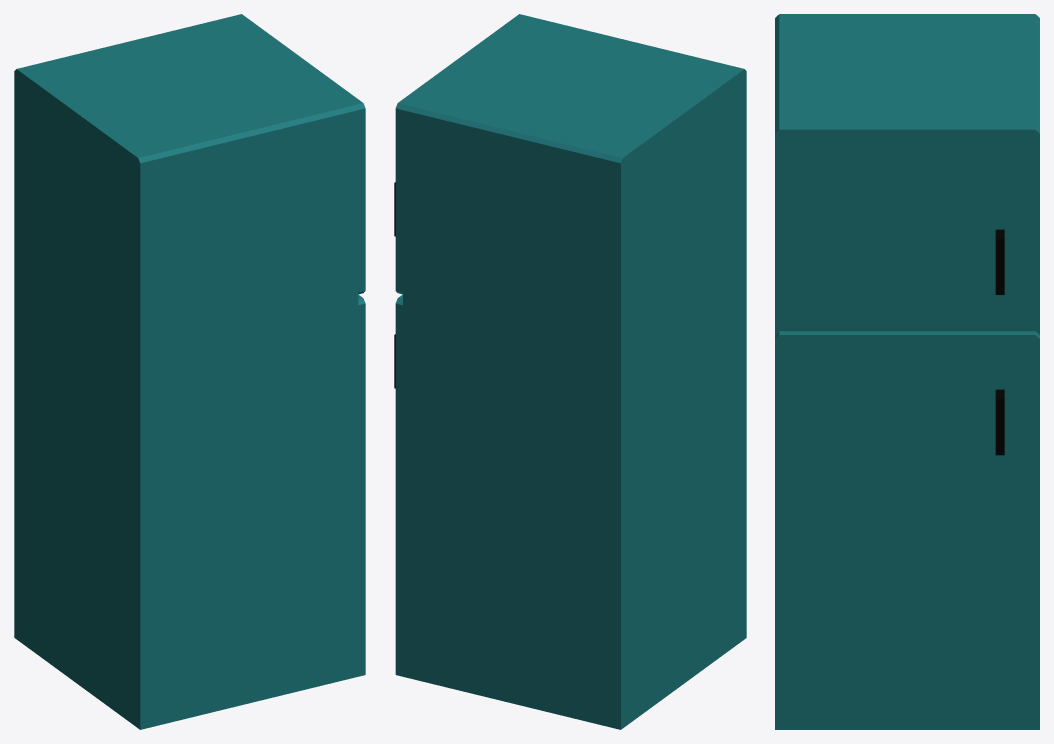
Rendered from frigo.fbx.
3 views of the same model, side by side, from view 1: azimuth 30°, elevation 25°; view 2: azimuth 150°, elevation 25°; view 3: azimuth 270°, elevation 25° (orthographic). The views are drawn at different scales.
Visible parts, largest first — view 1: Body1, sportello (×2); view 2: Body1, sportello (×2); view 3: sportello (×2), Body1, maniglia (×2).
Part boxes in pixels (box(x1,y1,x2,y2)): Body1: box(14, 16, 358, 729); sportello (×2): box(235, 14, 365, 676); Body1: box(403, 16, 746, 729); sportello (×2): box(395, 14, 526, 676); sportello (×2): box(775, 126, 1039, 729); Body1: box(775, 14, 1039, 334); maniglia (×2): box(995, 229, 1004, 455).
Bounding box in the file's own units: 80.4 × 72 × 180.
